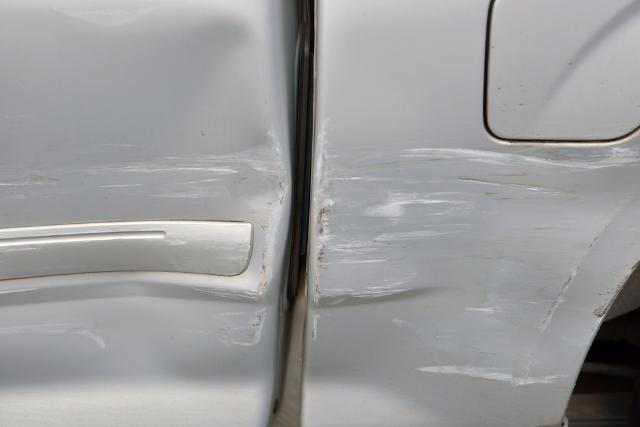scratch: (304, 118, 640, 390), (0, 125, 291, 354)
